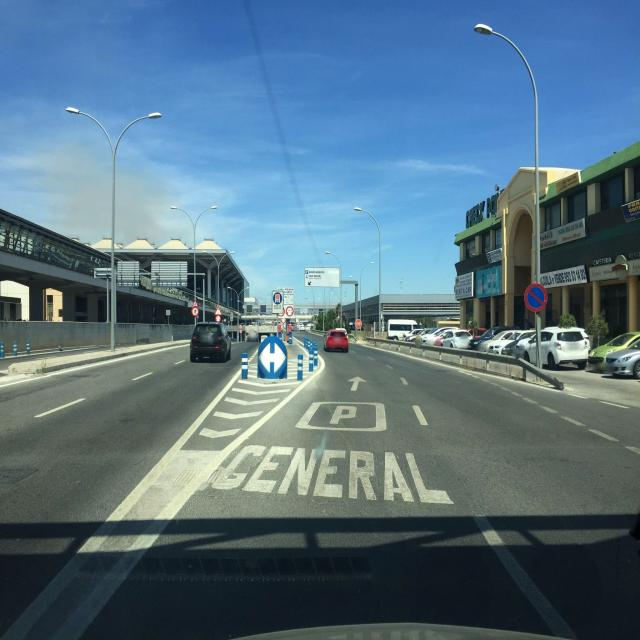car: (516, 326, 590, 370), (587, 331, 640, 372), (602, 332, 640, 381), (190, 321, 232, 363), (492, 330, 536, 358), (470, 326, 512, 351), (487, 329, 528, 354), (438, 329, 474, 349), (323, 328, 349, 352)
